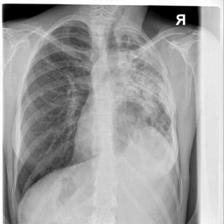tuberculosis: (9, 12, 184, 207)
